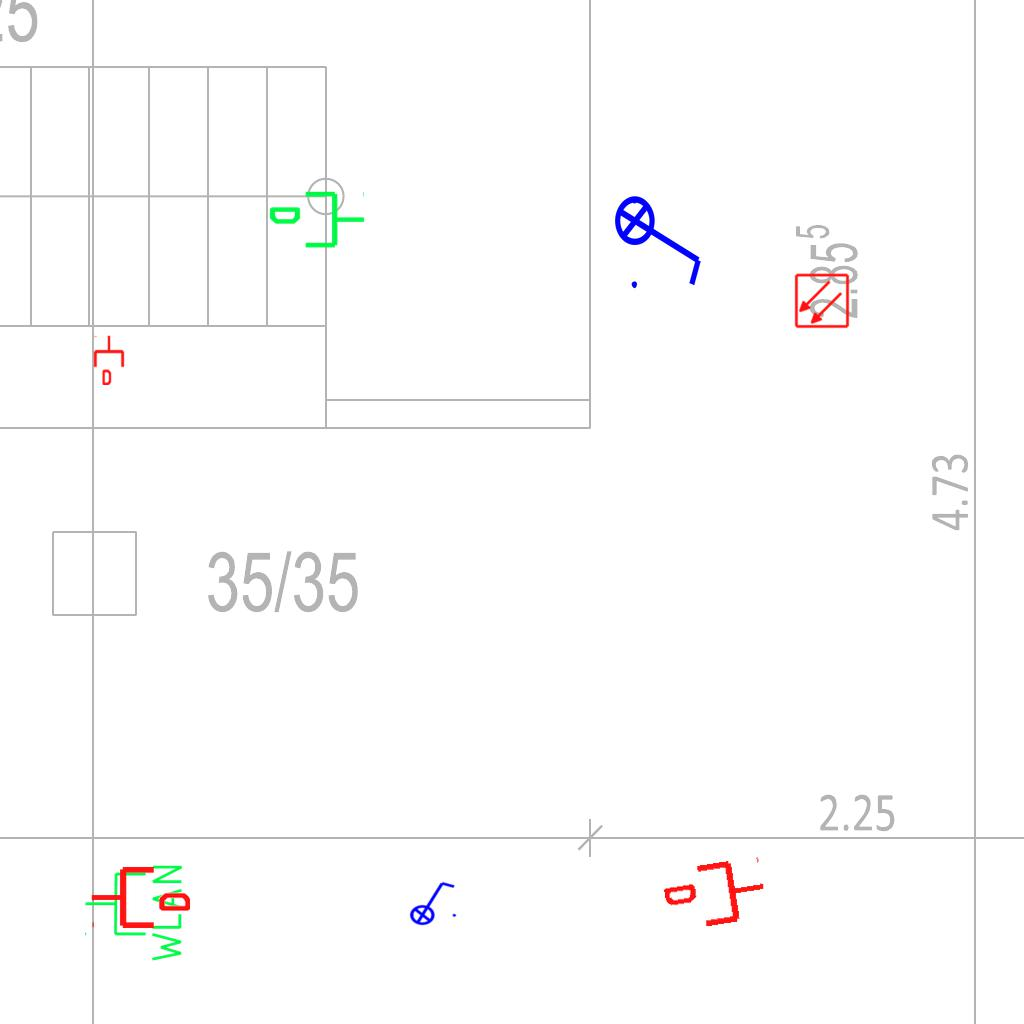Ausschalter_beleuchtet: (613, 182, 709, 294), (403, 878, 459, 926)
Datenanschluss_einfach: (660, 852, 771, 936), (267, 187, 367, 256), (90, 863, 190, 932), (92, 335, 126, 385)
RMO_Rauchmelder_optischer: (794, 273, 850, 329)
WLAN: (82, 861, 186, 966)
